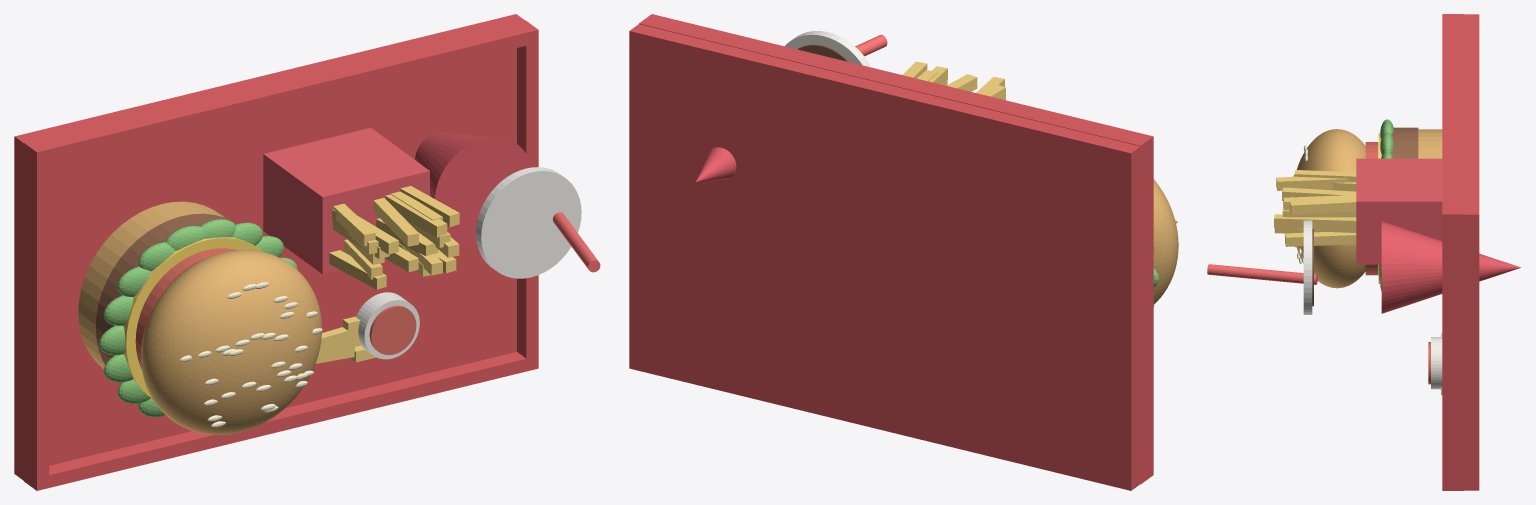
The model's file is restaurant_burger_combo.glb.
The picture shows the model from 3 angles, left to right: view 1: azimuth 30°, elevation 25°; view 2: azimuth 150°, elevation 25°; view 3: azimuth 270°, elevation 25°; orthographic projection. The views are drawn at different scales.
Parts seen in each view (by area): view 1: Serving tray base, Top brioche bun, Fries carton body, Tray back raised rim, Tray front raised rim, White cup lid, Tray left raised rim, Red soda cup, Bottom bun, Tray right raised rim, Grilled patty, Cheddar layer (+15 smaller); view 2: Serving tray base, Tray back raised rim, Tray left raised rim, Top brioche bun, White cup lid, Red soda cup; view 3: Serving tray base, Fries carton body, Red soda cup, Tray right raised rim, Tray back raised rim, Top brioche bun, Red drinking straw, Golden french fry 9, White cup lid, Golden french fry 2, Grilled patty, Golden french fry 1 (+7 smaller).
Boxes of the visible parts, x1,y1,x2,y2 form: Serving tray base: [14, 14, 524, 480]; Top brioche bun: [141, 250, 321, 434]; Fries carton body: [263, 128, 429, 274]; Tray back raised rim: [24, 20, 538, 164]; Tray front raised rim: [24, 352, 538, 490]; White cup lid: [476, 167, 581, 278]; Tray left raised rim: [24, 156, 49, 482]; Red soda cup: [415, 132, 531, 242]; Bottom bun: [78, 201, 224, 368]; Tray right raised rim: [517, 39, 538, 362]; Grilled patty: [95, 213, 236, 383]; Cheddar layer: [123, 237, 262, 397]; Serving tray base: [629, 24, 1144, 490]; Tray back raised rim: [639, 14, 1153, 157]; Tray left raised rim: [1140, 145, 1153, 475]; Top brioche bun: [1153, 179, 1178, 304]; White cup lid: [785, 31, 871, 67]; Red soda cup: [696, 147, 736, 182]; Serving tray base: [1458, 14, 1479, 490]; Fries carton body: [1356, 158, 1442, 264]; Red soda cup: [1381, 221, 1520, 313]; Tray right raised rim: [1442, 221, 1463, 483]; Tray back raised rim: [1442, 14, 1463, 224]; Top brioche bun: [1296, 129, 1365, 288]; Red drinking straw: [1207, 264, 1317, 284]; Golden french fry 9: [1274, 214, 1356, 229]; White cup lid: [1303, 220, 1312, 314]; Golden french fry 2: [1290, 198, 1356, 214]; Grilled patty: [1391, 127, 1418, 158]; Golden french fry 1: [1285, 232, 1356, 246].
Size of the model in its own units: 4.9 by 3.16 by 3.25.
